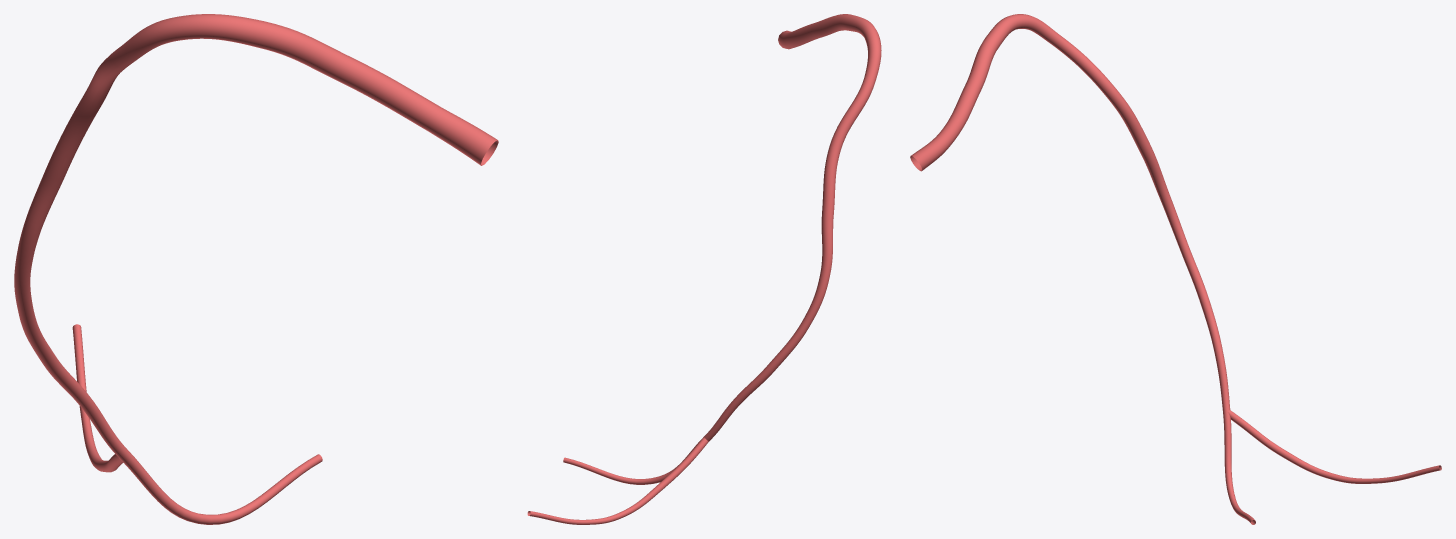
Rendered from Middle_temporal_branch.r_BezierCurve.217.glb.
3 renders of one model, left to right at view 1: azimuth 30°, elevation 25°; view 2: azimuth 150°, elevation 25°; view 3: azimuth 270°, elevation 25°, orthographic. The views are drawn at different scales.
Parts seen in each view (by area): view 1: Middle_temporal_branch.r_BezierCurve.217; view 2: Middle_temporal_branch.r_BezierCurve.217; view 3: Middle_temporal_branch.r_BezierCurve.217.
Boxes of the visible parts, x1=… form: Middle_temporal_branch.r_BezierCurve.217: x1=14, y1=14, x2=498, y2=524; Middle_temporal_branch.r_BezierCurve.217: x1=527, y1=14, x2=881, y2=524; Middle_temporal_branch.r_BezierCurve.217: x1=910, y1=14, x2=1441, y2=524.
Bounding box in the file's own units: 0.0251 × 0.0443 × 0.0498.
